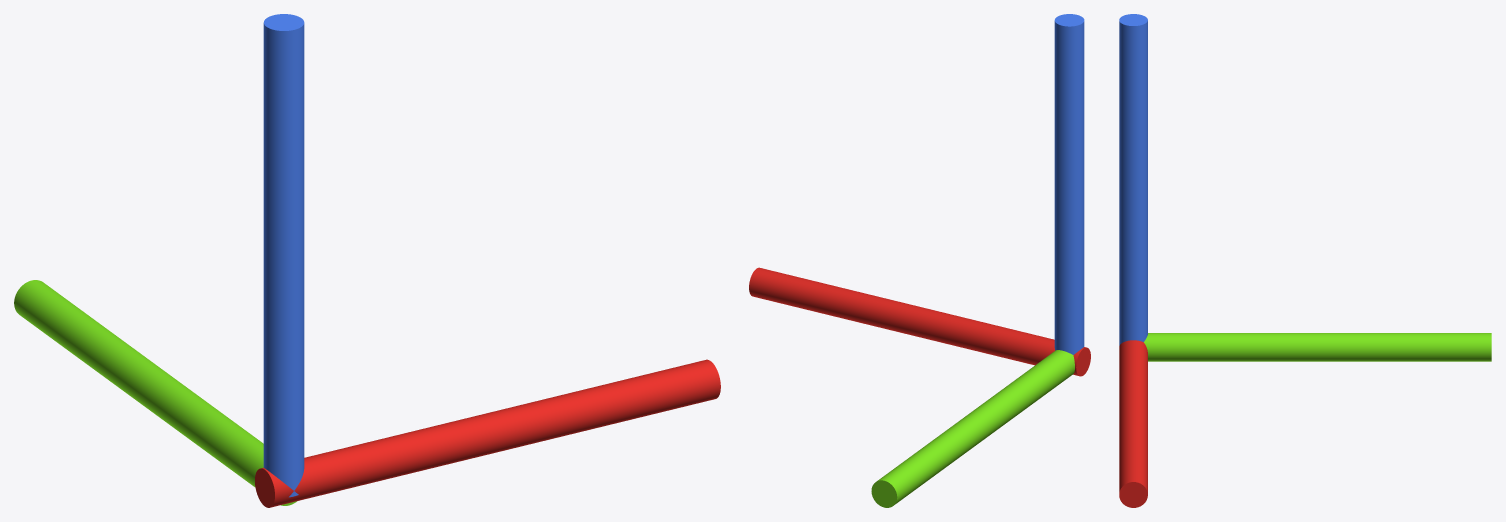
3 views of the same model, side by side, from view 1: azimuth 30°, elevation 25°; view 2: azimuth 150°, elevation 25°; view 3: azimuth 270°, elevation 25° (orthographic). The views are drawn at different scales.
Visible parts, largest first — view 1: mesh_id43, mesh_id30, mesh_id49; view 2: mesh_id43, mesh_id30, mesh_id49; view 3: mesh_id49, mesh_id43, mesh_id30.
Boxes of the visible parts, x1,y1,x2,y2 form: mesh_id43: (263, 14, 304, 497); mesh_id30: (255, 359, 720, 507); mesh_id49: (14, 280, 296, 505); mesh_id43: (1054, 14, 1084, 354); mesh_id30: (749, 267, 1090, 376); mesh_id49: (871, 350, 1074, 507); mesh_id49: (1144, 333, 1491, 361); mesh_id43: (1119, 14, 1147, 345); mesh_id30: (1119, 340, 1147, 507).
Bounding box in the file's own units: 27.56 × 28.31 × 28.11.
